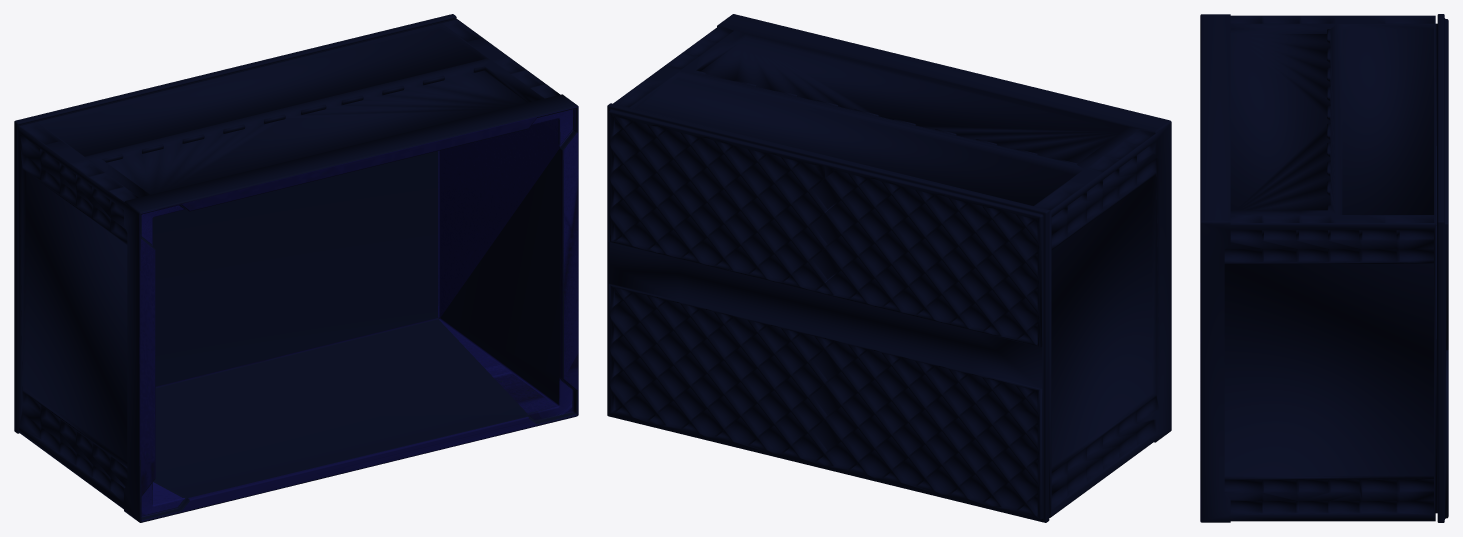
Rendered from bin.obj.
3 renders of one model, left to right at view 1: azimuth 30°, elevation 25°; view 2: azimuth 150°, elevation 25°; view 3: azimuth 270°, elevation 25°, orthographic. The views are drawn at different scales.
Size of the model in its own units: 0.649 by 0.439 by 0.327.
1 material, 1 textured.
